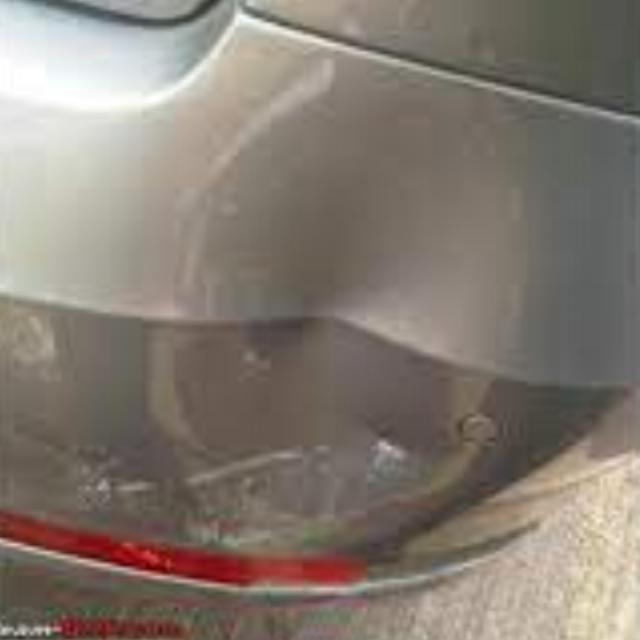dents: (182, 72, 541, 520)
